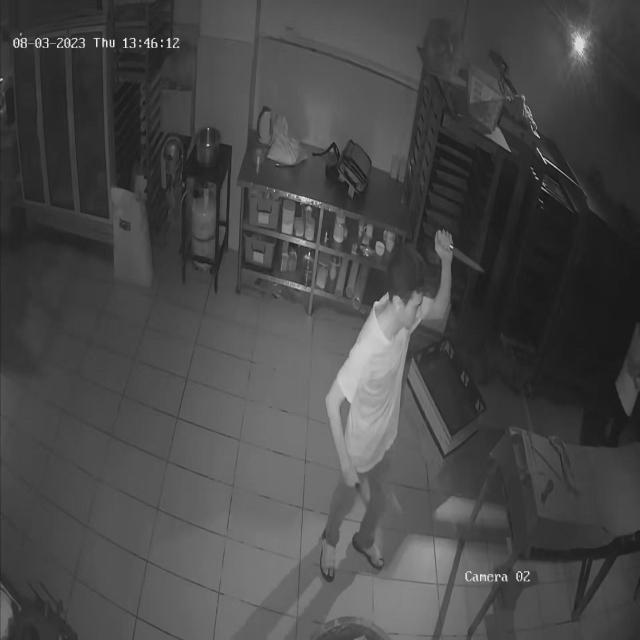Knife: (425, 228, 497, 284)
